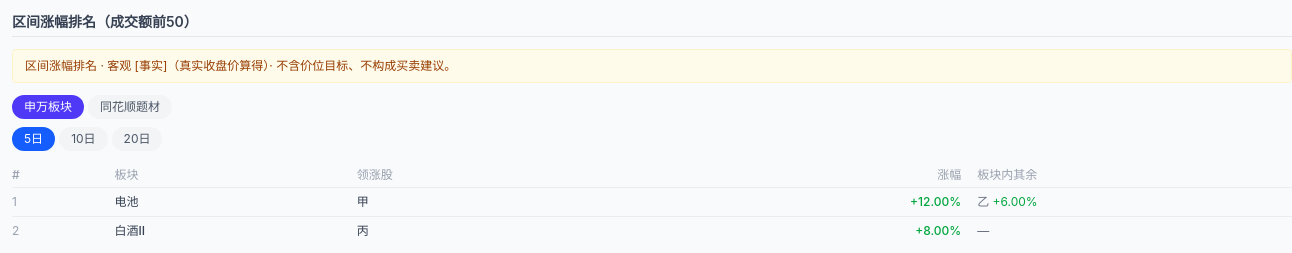
Test case: SectorGainRanking › 切到 20日 Tab：白酒(+20%) 排到电池(+1%) 之前
Expected: the text "电池" is shown, [114,188,357,216]
Click the tab "20日" at (137, 139), box [112,127,162,151]
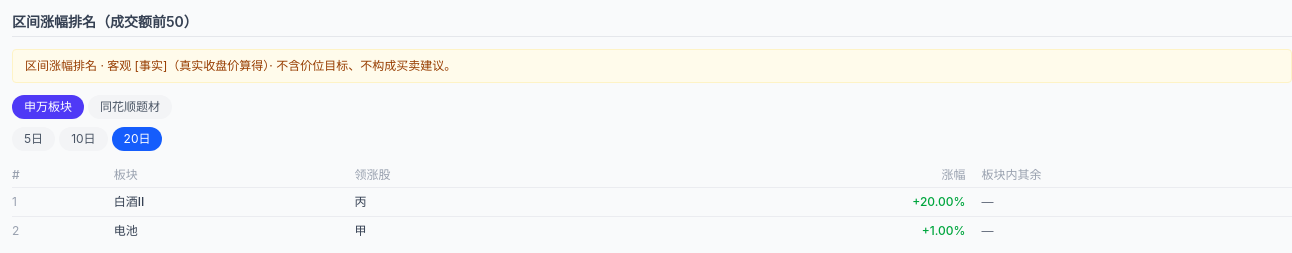
Now the text "+20.00%" is shown, box [624,188,981,216]
